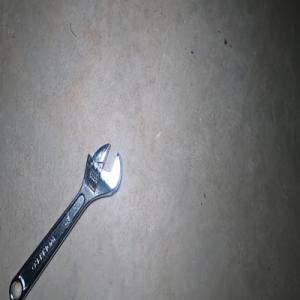Wrench: (8, 143, 121, 300)
